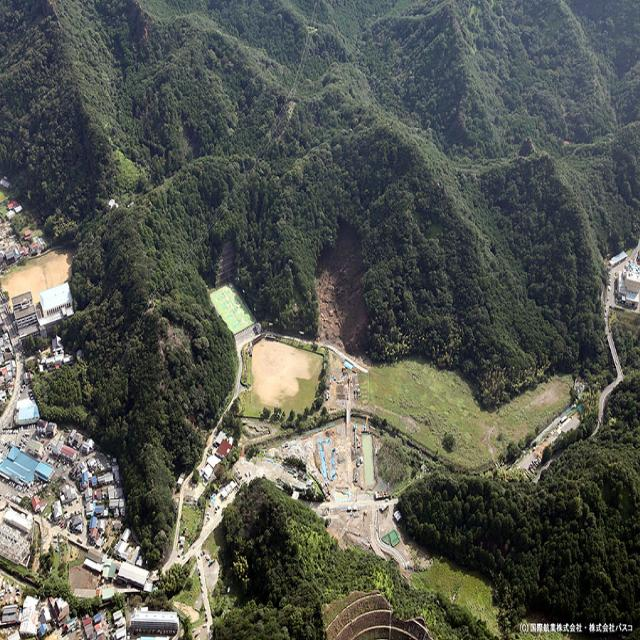Debris-flow: (316, 225, 368, 355)
